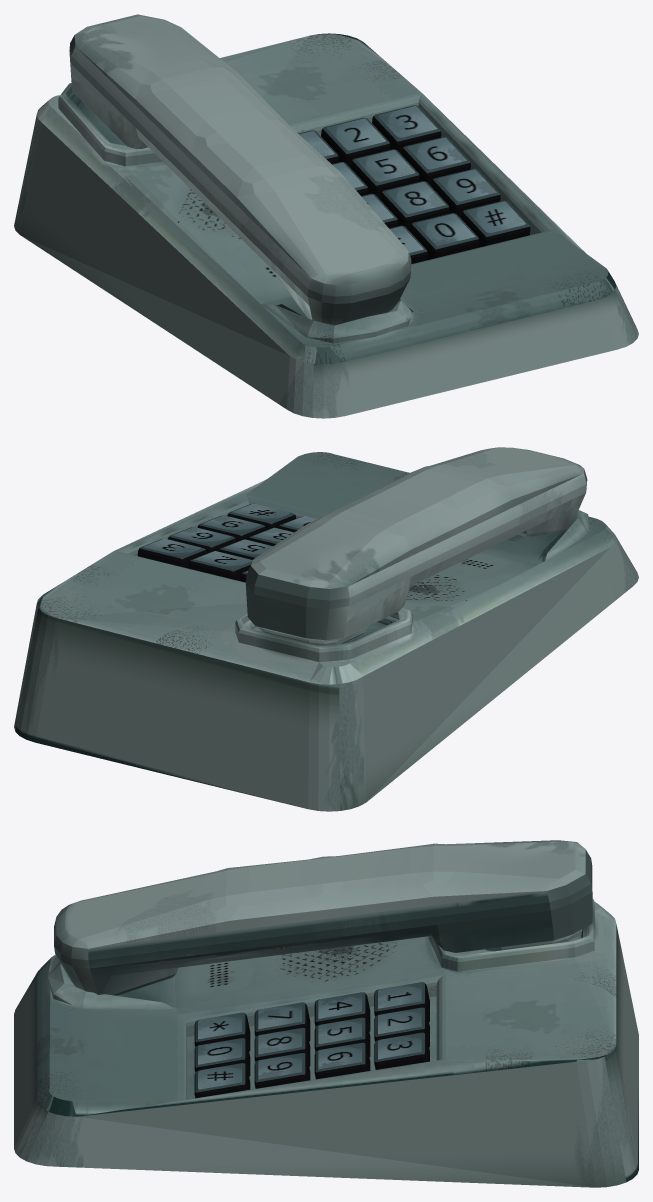
Rendered from Phone.fbx.
The picture shows the model from 3 angles, top to bottom: view 1: azimuth 30°, elevation 25°; view 2: azimuth 150°, elevation 25°; view 3: azimuth 270°, elevation 25°; orthographic projection.
Parts seen in each view (by area): view 1: PhoneBaseMesh, PhoneHandsetMesh, PhoneNumbersTexture.010, PhoneNumbersTexture.011, PhoneNumbersTexture.007, PhoneNumbersTexture.004, PhoneNumbersTexture.001, PhoneNumbersTexture.008, PhoneNumbersTexture.003, PhoneNumbersTexture.002, PhoneNumbersTexture.009; view 2: PhoneBaseMesh, PhoneHandsetMesh, PhoneNumbersTexture.002, PhoneNumbersTexture.001, PhoneNumbersTexture.008, PhoneNumbersTexture.011, PhoneNumbersTexture.003, PhoneNumbersTexture.004; view 3: PhoneBaseMesh, PhoneHandsetMesh, PhoneNumbersTexture.002, PhoneNumbersTexture.003, PhoneNumbersTexture.008, PhoneNumbersTexture.011, PhoneNumbersTexture.006, PhoneNumbersTexture.009, PhoneNumbersTexture.005, PhoneNumbersTexture, PhoneNumbersTexture.004, PhoneNumbersTexture.010 (+2 smaller).
Boxes of the visible parts, x1,y1,x2,y2 form: PhoneBaseMesh: (14,33,638,418); PhoneHandsetMesh: (69,14,411,325); PhoneNumbersTexture.010: (410,213,479,260); PhoneNumbersTexture.011: (461,200,530,247); PhoneNumbersTexture.007: (380,181,449,231); PhoneNumbersTexture.004: (350,149,419,199); PhoneNumbersTexture.001: (321,117,390,167); PhoneNumbersTexture.008: (431,168,500,217); PhoneNumbersTexture.003: (401,137,470,186); PhoneNumbersTexture.002: (372,105,441,154); PhoneNumbersTexture.009: (389,225,427,263); PhoneBaseMesh: (14,452,638,811); PhoneHandsetMesh: (245,447,587,645); PhoneNumbersTexture.002: (137,538,206,568); PhoneNumbersTexture.001: (188,551,252,580); PhoneNumbersTexture.008: (197,515,266,541); PhoneNumbersTexture.011: (227,503,295,530); PhoneNumbersTexture.003: (168,527,236,553); PhoneNumbersTexture.004: (219,539,272,559); PhoneBaseMesh: (14,899,638,1187); PhoneHandsetMesh: (54,840,592,995); PhoneNumbersTexture.002: (374,1032,429,1069); PhoneNumbersTexture.003: (314,1042,370,1079); PhoneNumbersTexture.008: (254,1053,310,1088); PhoneNumbersTexture.011: (194,1063,250,1098); PhoneNumbersTexture.006: (254,1002,310,1041); PhoneNumbersTexture.009: (194,1012,250,1051); PhoneNumbersTexture.005: (314,992,370,1031); PhoneNumbersTexture: (374,982,429,1021); PhoneNumbersTexture.004: (314,1017,370,1056); PhoneNumbersTexture.010: (194,1038,250,1076).
Size of the model in its own units: 76.51 by 42.16 by 118.
Materials: 14 (14 with a texture image).
